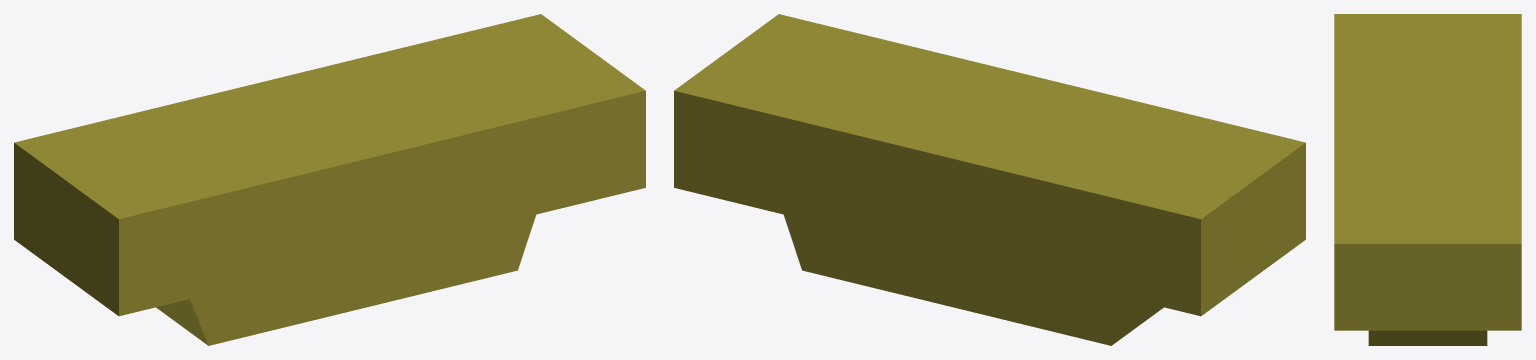
File: keyParts3.obj
3 renders of one model, left to right at view 1: azimuth 30°, elevation 25°; view 2: azimuth 150°, elevation 25°; view 3: azimuth 270°, elevation 25°, orthographic. The views are drawn at different scales.
Visible parts, largest first — view 1: parts3_立方体.001; view 2: parts3_立方体.001; view 3: parts3_立方体.001.
Part boxes in pixels (box(x1,y1,x2,y2)): parts3_立方体.001: box(14, 14, 645, 345); parts3_立方体.001: box(674, 14, 1305, 345); parts3_立方体.001: box(1334, 14, 1521, 345).
Size of the model in its own units: 0.5668 by 0.1719 by 0.1952.
1 material, 1 textured.
